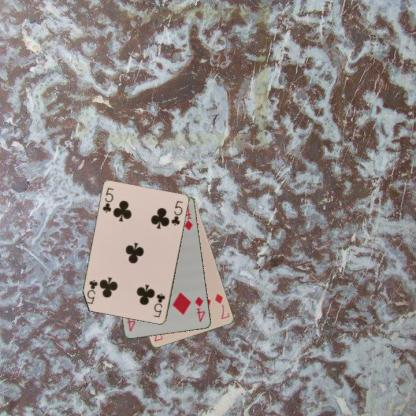4d: (192, 294, 206, 324)
5c: (100, 185, 115, 214), (152, 291, 166, 319)
7d: (212, 291, 231, 321)
